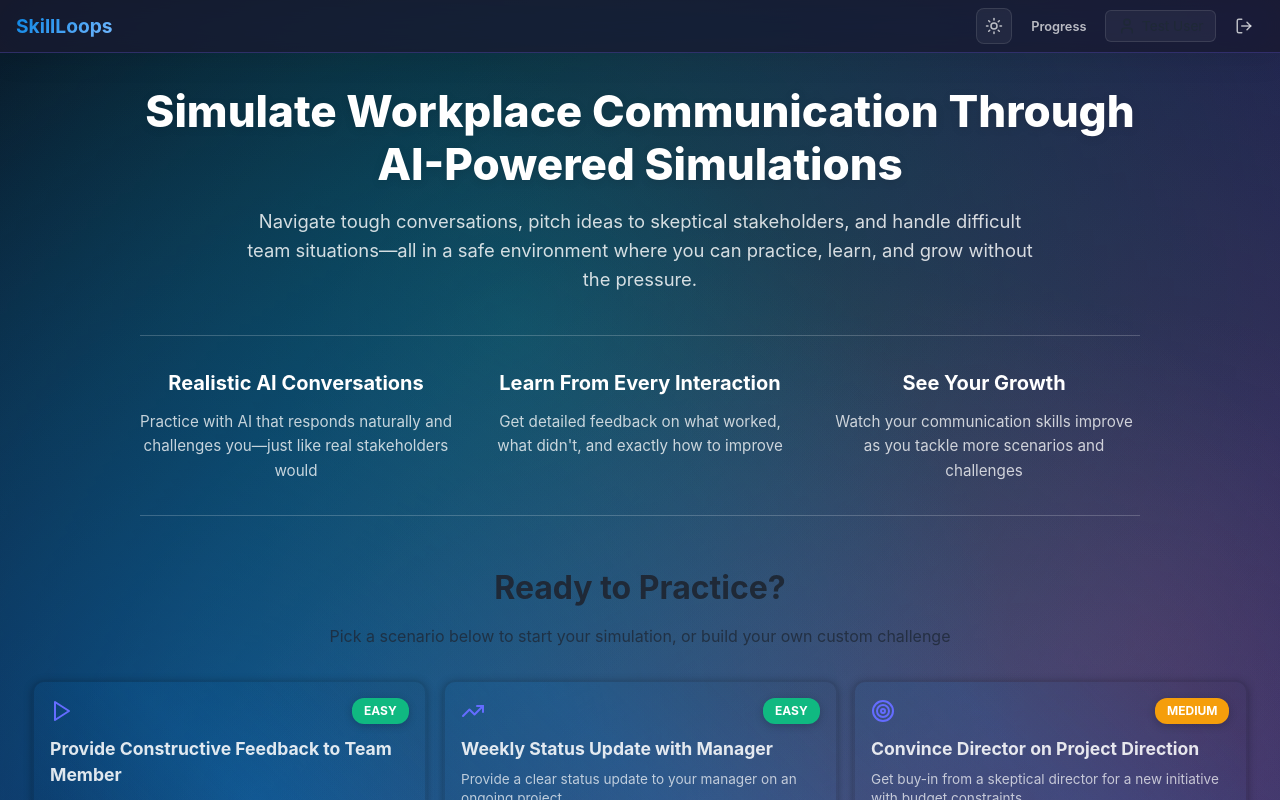
Test: Message Exchange Integration Tests › should handle timeout request and show coaching hint
This screenshot has width=1280, height=800.
Expected: the heading "Ready to Practice?" is shown, [494,568,786,607]
Click the heading "Provide Constructive Feedback to Team Member": (221, 748) [50,736,409,789]
(page scrolled)
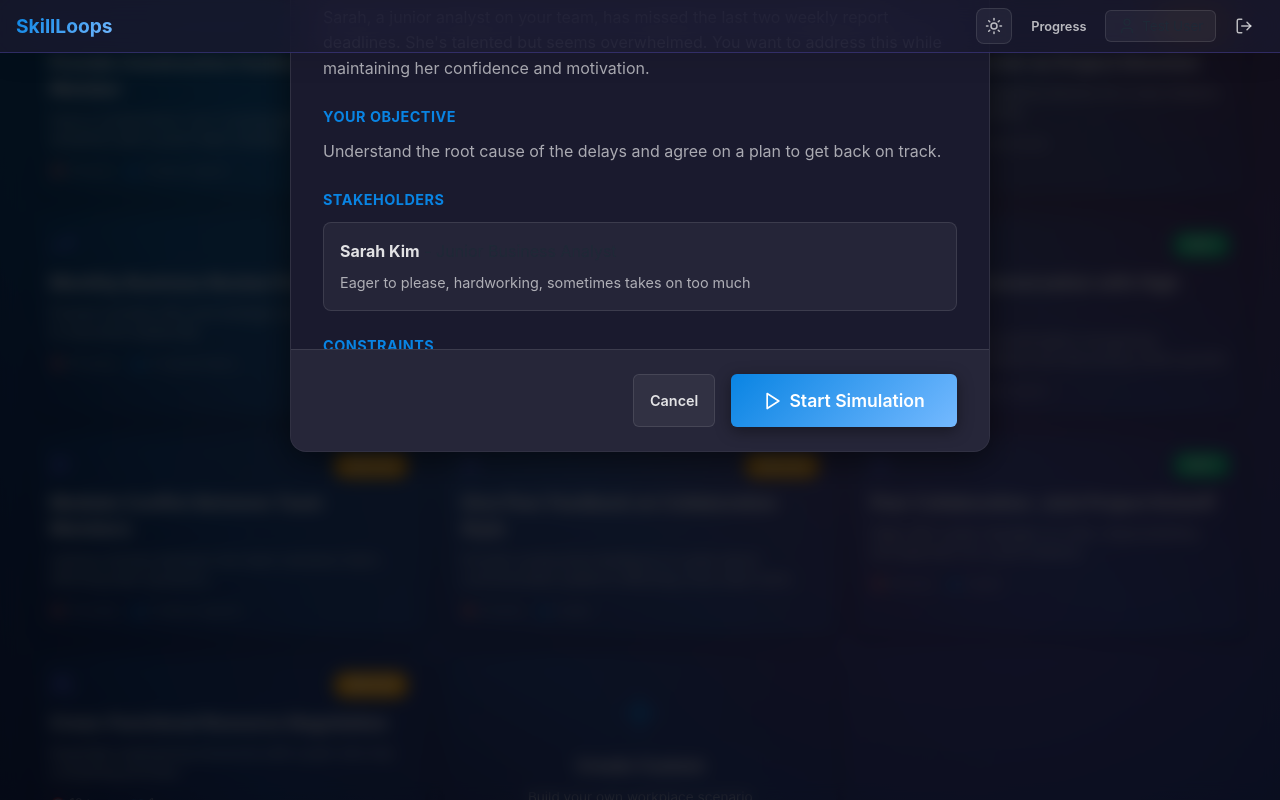
Expected: the button "Start Simulation" is shown
Click the button "Start Simulation": (844, 400) [731,374,957,427]
(page scrolled)
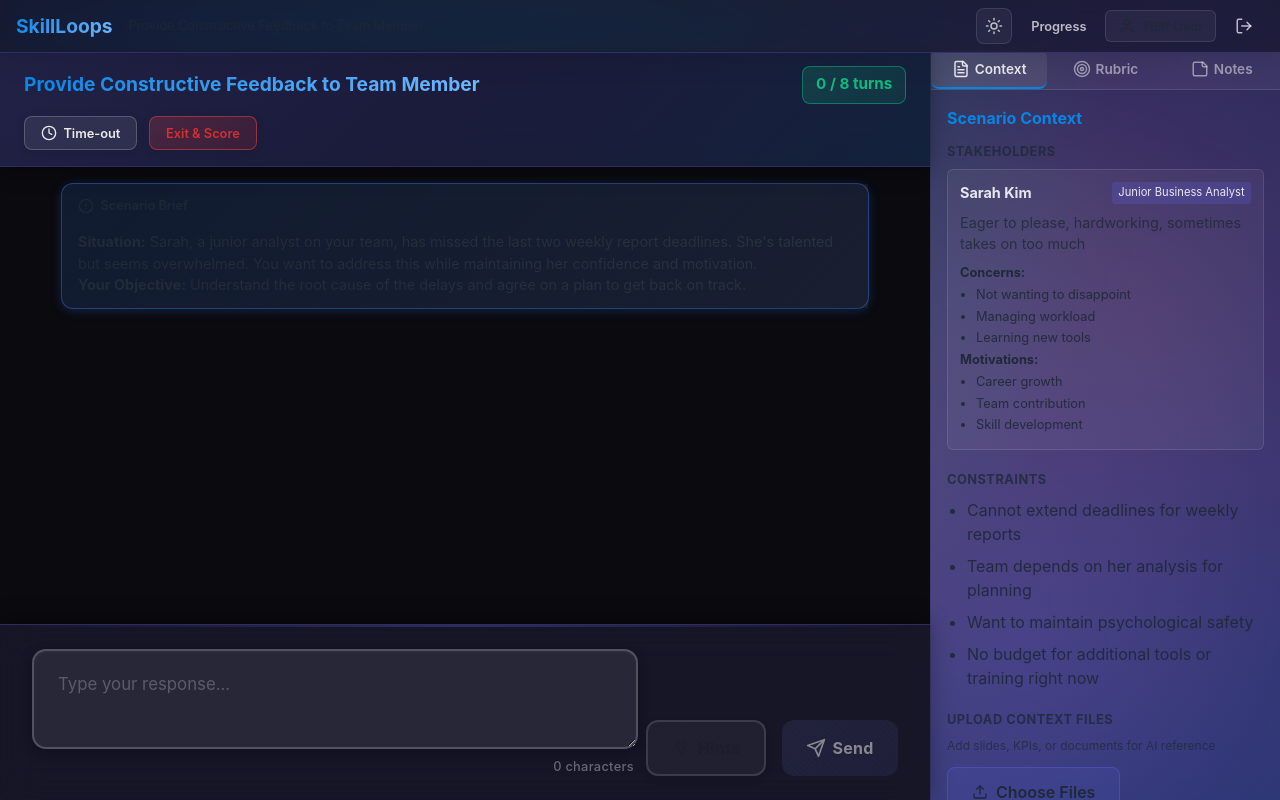
Expected: the text "0 / 8 turns" is shown, [802,66,906,104]
Click the button "Time-out": (81, 133) [24,116,137,150]
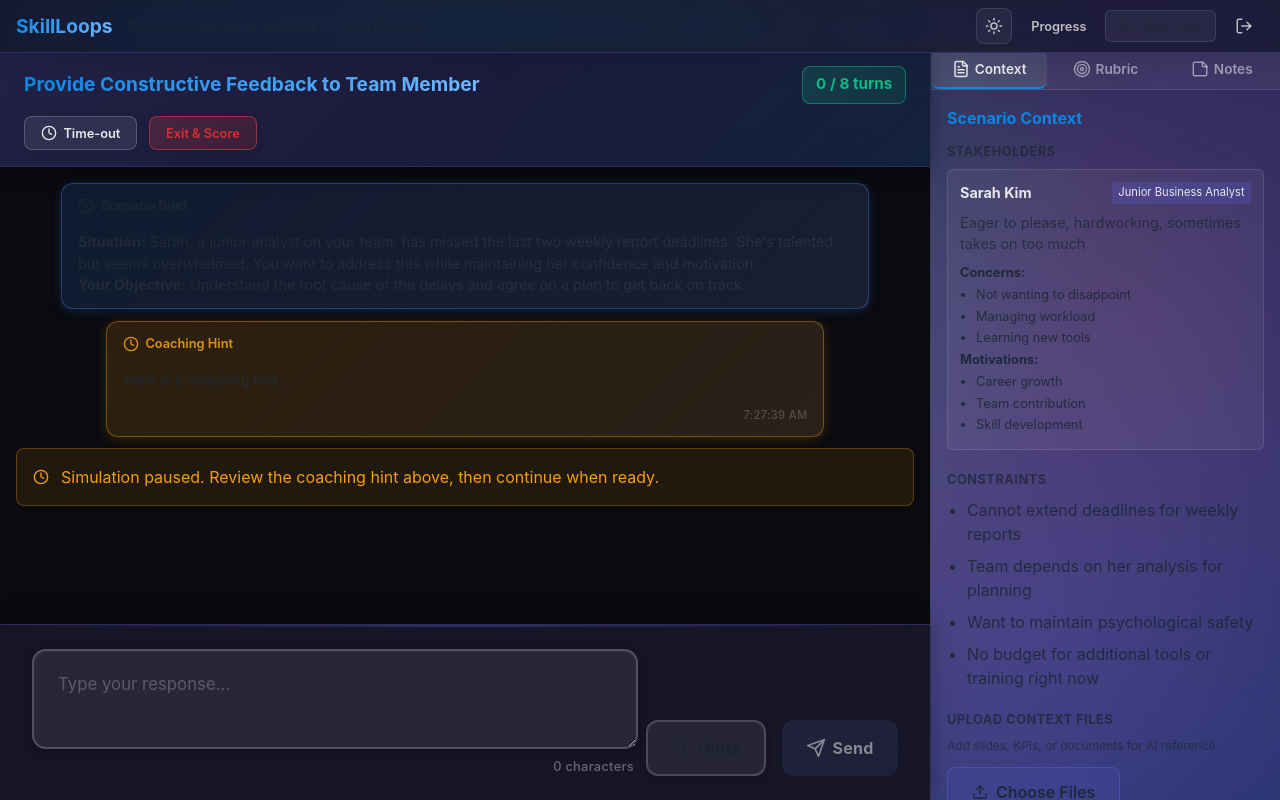
Expected: the text "Here is a coaching hint." is shown, [123,371,283,388]
